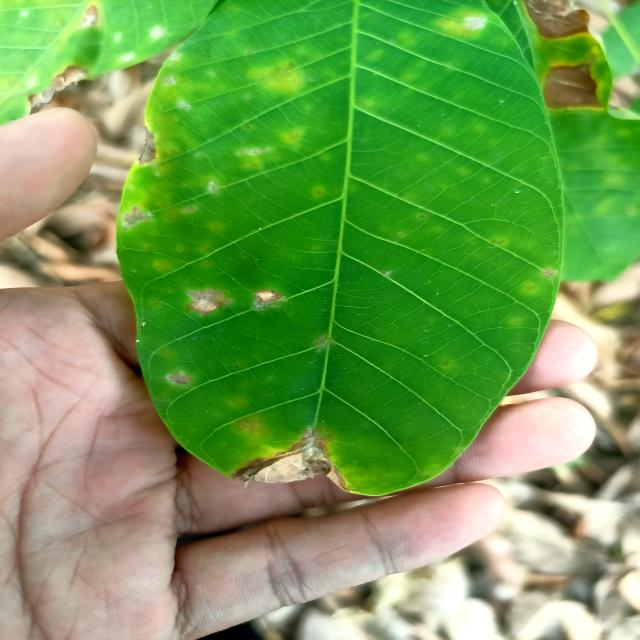Leaf-Blight: (230, 428, 350, 494), (28, 65, 89, 115), (541, 62, 602, 110), (523, 0, 591, 40), (139, 125, 157, 164)
